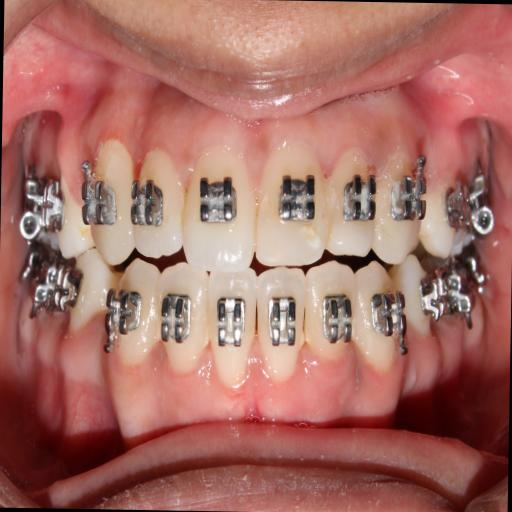correct_brace: (192, 169, 246, 236), (336, 164, 379, 234), (126, 170, 168, 239), (274, 165, 321, 226), (317, 285, 357, 354), (157, 287, 198, 351), (212, 290, 250, 358), (264, 286, 299, 356)
incorrect_brace: (153, 260, 214, 382), (126, 139, 186, 263), (324, 138, 380, 260), (302, 262, 358, 376)
